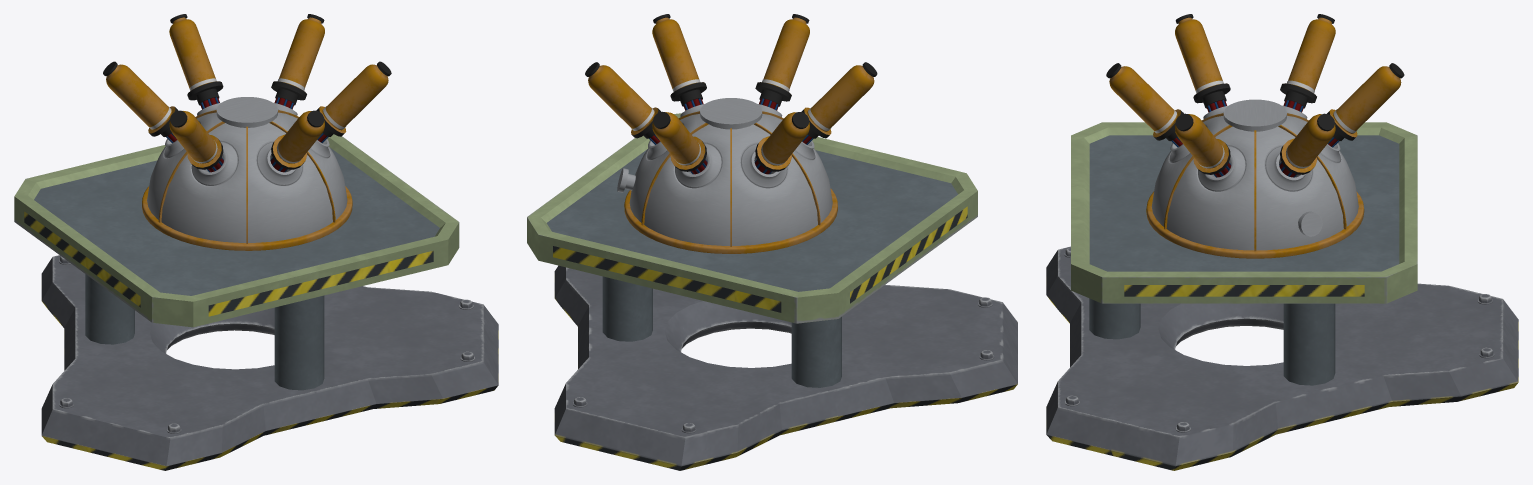
Rendered from Rector.fbx.
3 views of the same model, side by side, from view 1: azimuth 30°, elevation 25°; view 2: azimuth 150°, elevation 25°; view 3: azimuth 270°, elevation 25° (orthographic). The views are drawn at different scales.
Visible parts, largest first — view 1: Rector; view 2: Rector; view 3: Rector.
Boxes of the visible parts, x1=… form: Rector: x1=14, y1=14, x2=498, y2=470; Rector: x1=527, y1=14, x2=1017, y2=470; Rector: x1=1046, y1=14, x2=1518, y2=470.
Size of the model in its own units: 250 by 153 by 216.
